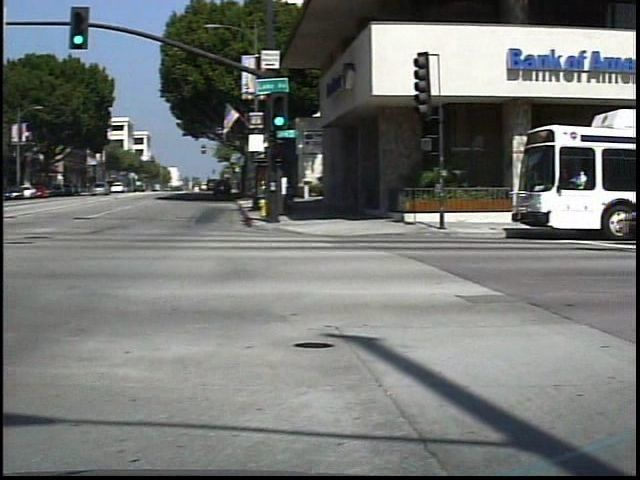person: (281, 167, 303, 217)
